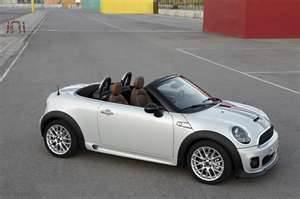Car: (35, 52, 285, 192)
